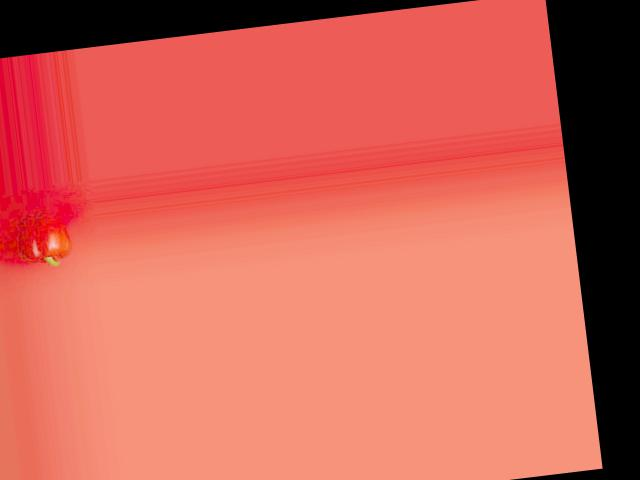bell_pepper: (12, 206, 71, 272)
